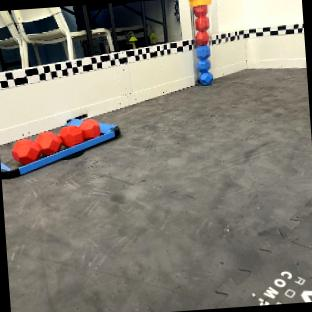V5_BLUE: (195, 45, 212, 84)
V5_RED: (11, 118, 101, 164), (193, 4, 209, 29), (195, 28, 208, 44)
